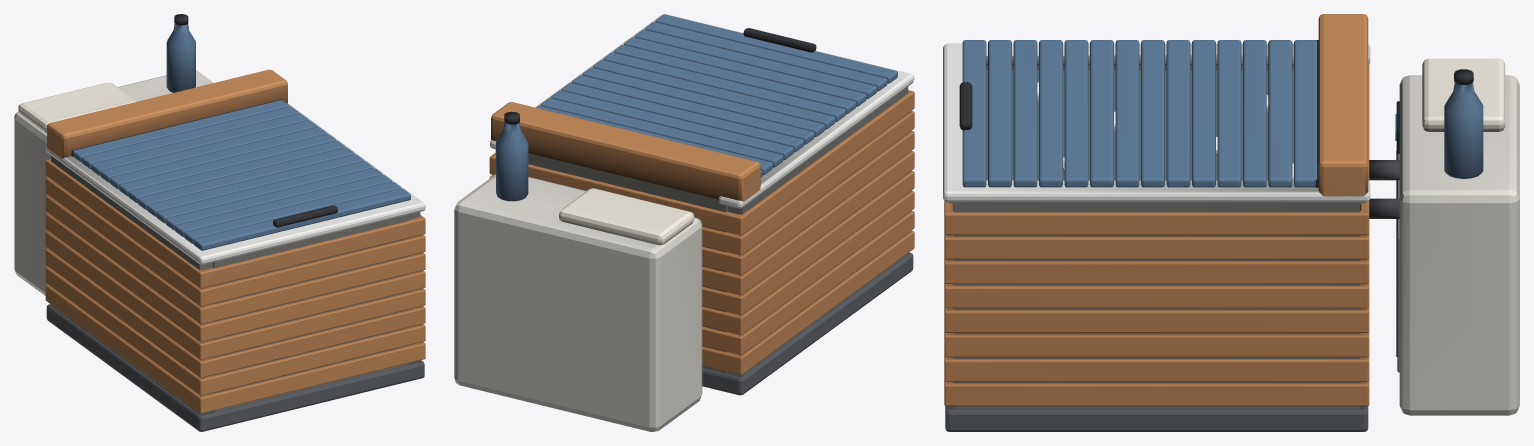
File: coldPlunge.glb
The picture shows the model from 3 angles, left to right: view 1: azimuth 30°, elevation 25°; view 2: azimuth 150°, elevation 25°; view 3: azimuth 270°, elevation 25°; orthographic projection. The views are drawn at different scales.
Visible parts, largest first — view 1: body, cover; view 2: body, cover; view 3: body, cover.
Part boxes in pixels (left/top/right/bottom): body: left=14, top=14, right=425, bottom=431; cover: left=72, top=100, right=410, bottom=250; body: left=454, top=14, right=914, bottom=431; cover: left=536, top=14, right=897, bottom=177; body: left=943, top=14, right=1519, bottom=431; cover: left=959, top=40, right=1316, bottom=187.
Size of the model in its own units: 0.86 by 0.86 by 1.39.
